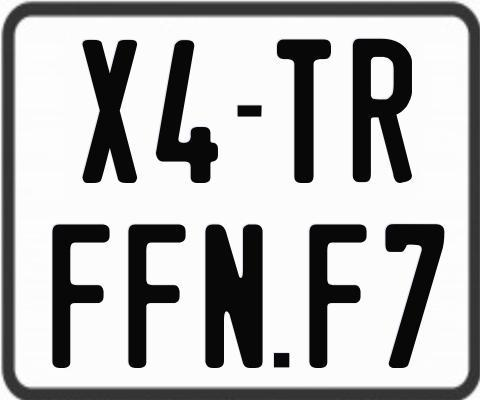4: (155, 39, 222, 188)
7: (382, 221, 445, 366)
F: (49, 223, 107, 372), (309, 223, 367, 372), (126, 224, 184, 368)
N: (205, 224, 265, 371)
R: (350, 36, 414, 181)
T: (275, 36, 330, 183)
X: (82, 40, 139, 188)
